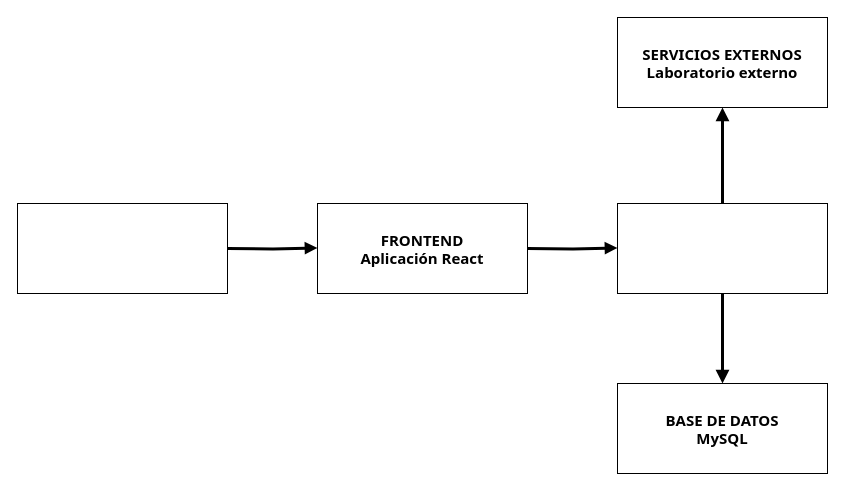
Image size: 845x491. Some labels were removed from this diagram. Here are the shapes that lost their labels. From the top down, the centre of each, then its label:
At pixel 122 248: "USUARIO Paciente".
At pixel 722 248: "BACKEND Hospital".
